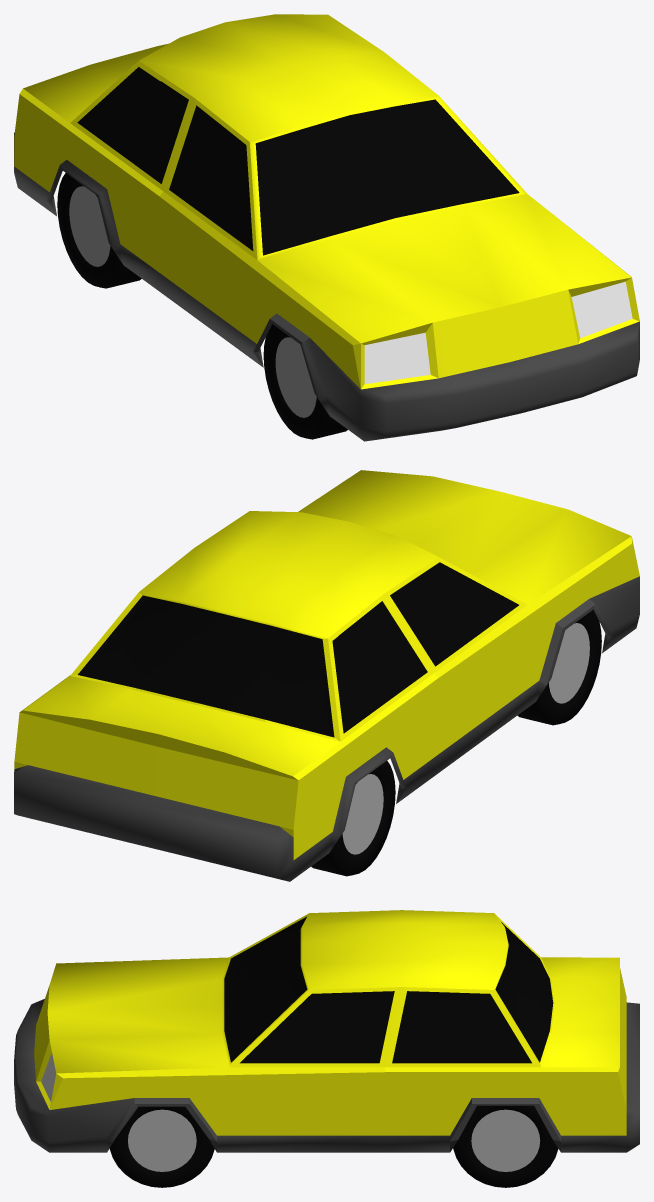
Rendered from yellow_car.gltf.
3 views of the same model, one above another, from view 1: azimuth 30°, elevation 25°; view 2: azimuth 150°, elevation 25°; view 3: azimuth 270°, elevation 25° (orthographic). The views are drawn at different scales.
Parts seen in each view (by area): view 1: Car_Cube; view 2: Car_Cube; view 3: Car_Cube.
Boxes of the visible parts, x1,y1,x2,y2 form: Car_Cube: (14,14,639,441); Car_Cube: (14,470,639,881); Car_Cube: (14,910,639,1187).
Size of the model in its own units: 2.1 by 1.59 by 4.66.
